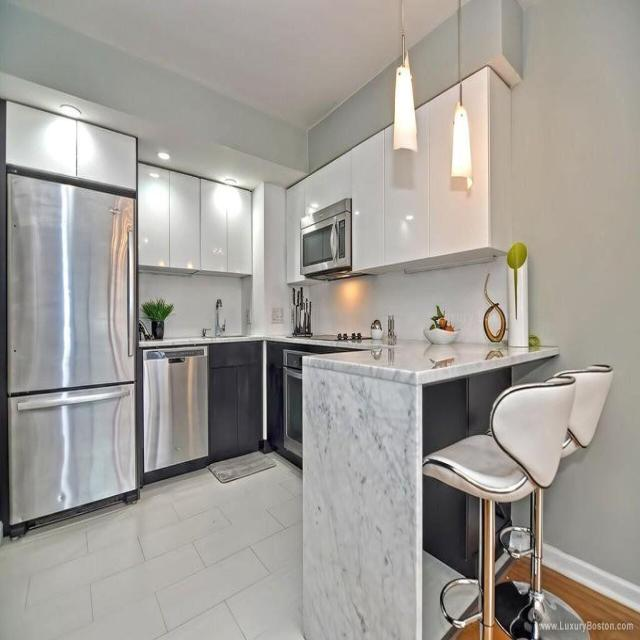dishwasher: (130, 323, 223, 499)
